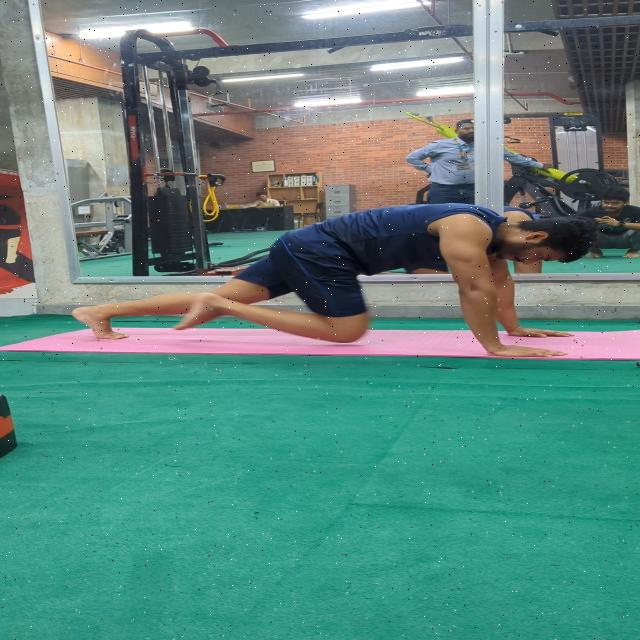Normal_MountainClimbers: (57, 177, 640, 360)
